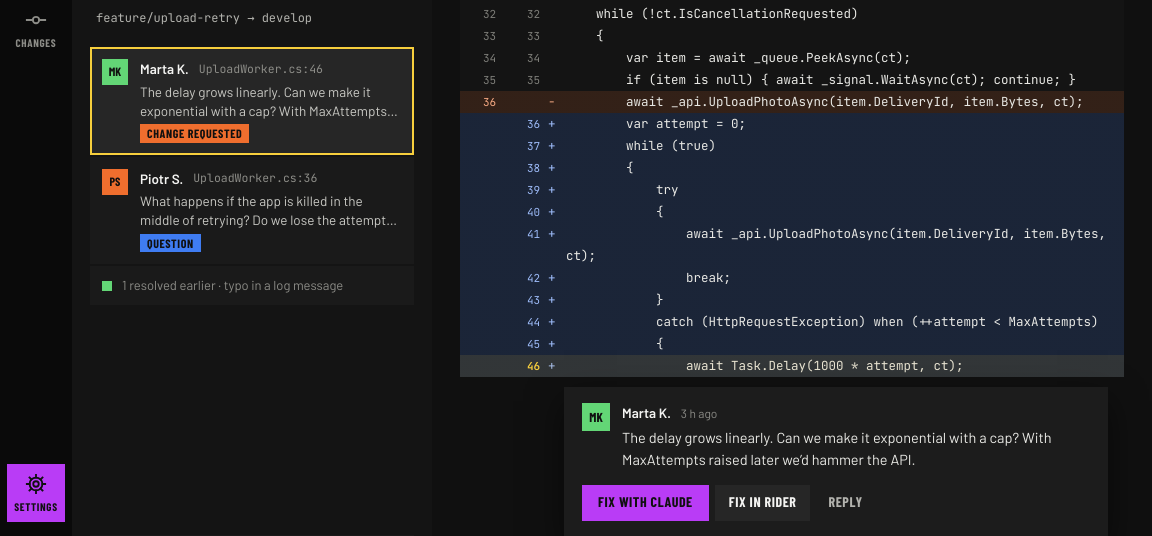
Test case: S-10 thread card after Push and reply (F-26.6) › F-26.6 with Resolve on the card ends with my reply and reads Resolved, without actions
Step 1. Click the button "Fix in Rider" → {"x": 763, "y": 502}, box [715,484,810,520]
(page scrolled)
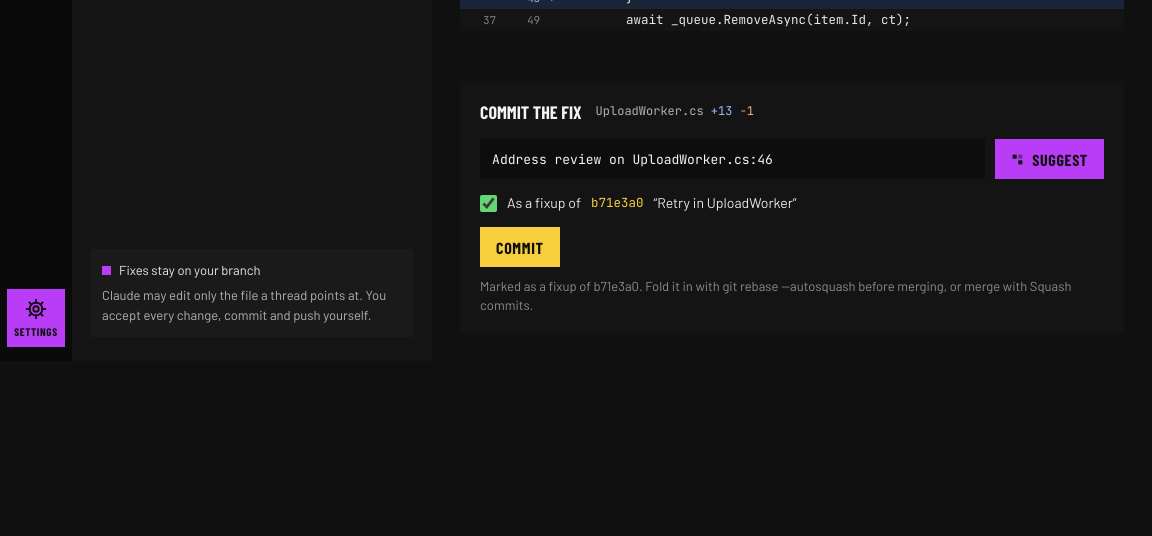
Step 2. Click the button "Commit" → {"x": 520, "y": 247}, box [480,227,560,267]
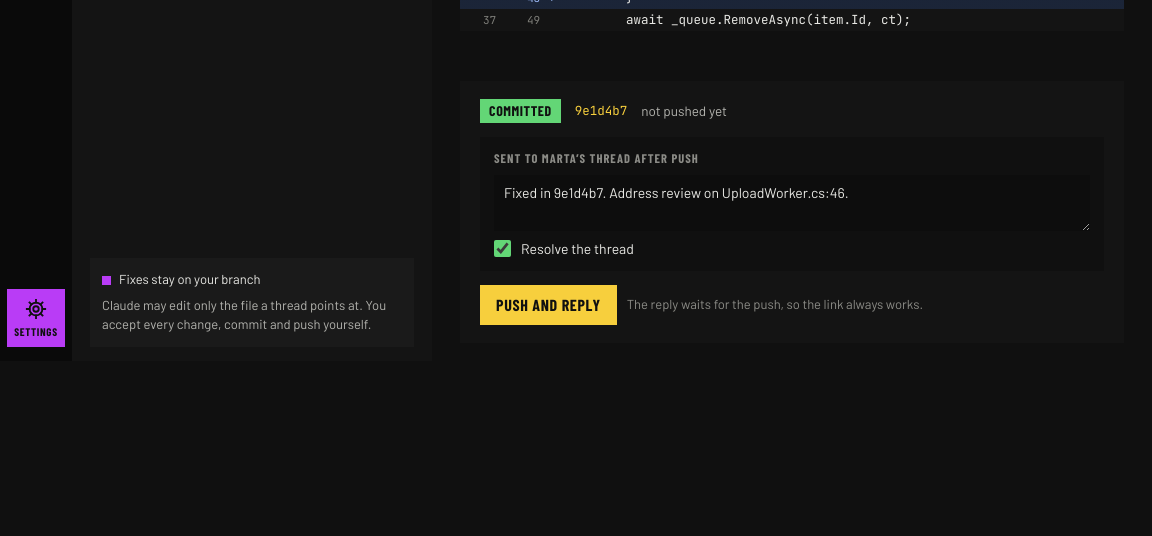
Result: the text "not pushed yet" is shown at [641,101,727,121]
Step 3. Click the button "Push and reply" → {"x": 548, "y": 305}, box [480,285,617,325]
(page scrolled)
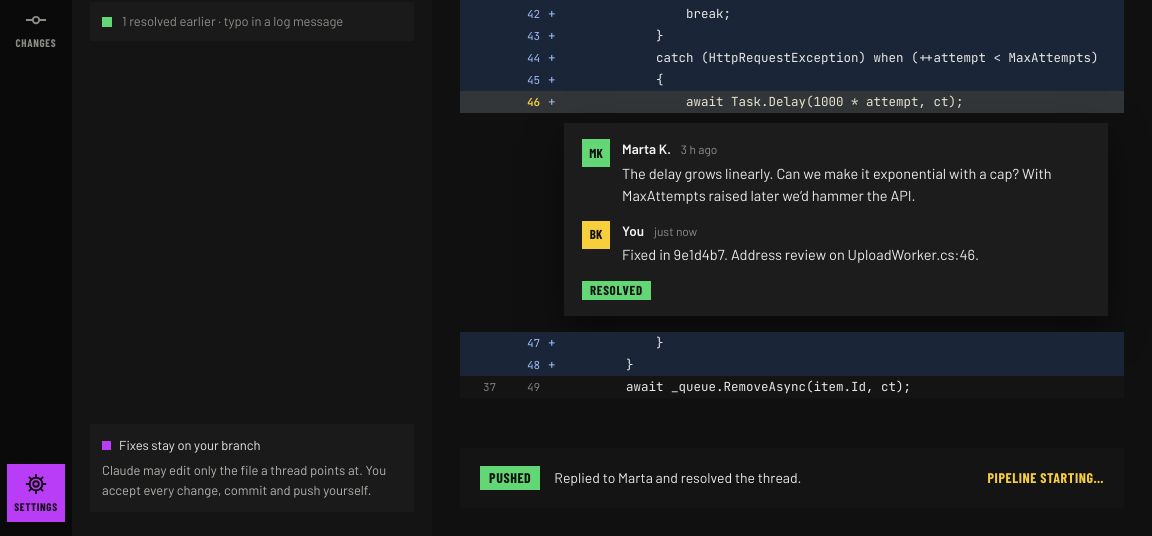
Result: the text "Pushed" is shown at [480,466,540,490]
Result: the text "You" is shown at [622,220,644,240]
Result: the text "Fixed in 9e1d4b7. Address review on UploadWorker.cs:46." is shown at [622,245,979,263]
